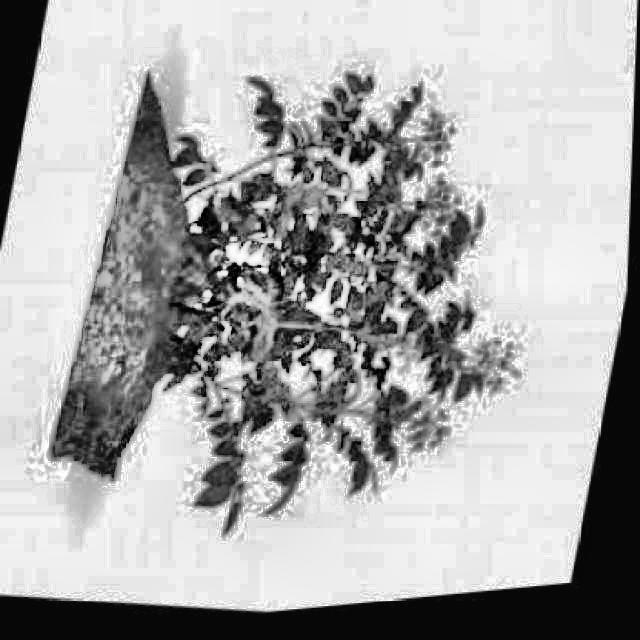plants: (92, 22, 591, 598)
